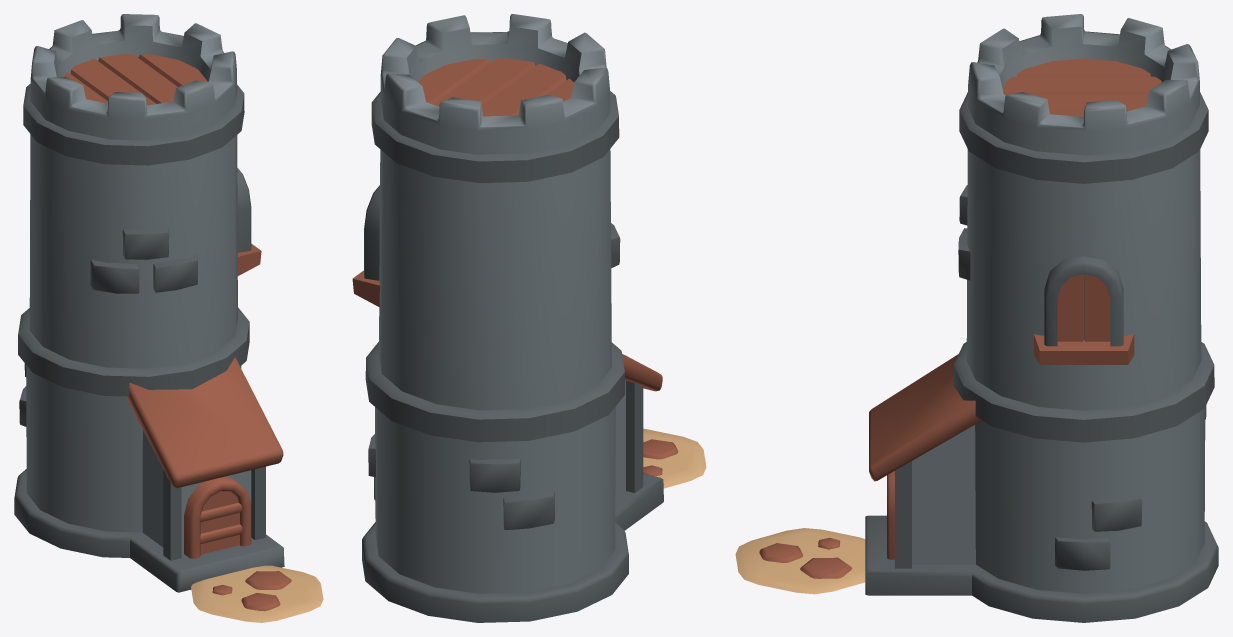
Rendered from watchtower.glb.
3 views of the same model, side by side, from view 1: azimuth 30°, elevation 25°; view 2: azimuth 150°, elevation 25°; view 3: azimuth 270°, elevation 25° (orthographic). The views are drawn at different scales.
Visible parts, largest first — view 1: watchtower; view 2: watchtower; view 3: watchtower.
Part boxes in pixels (x1,y1,x2,y2): watchtower: (14,14,323,622); watchtower: (352,14,706,622); watchtower: (735,14,1218,622).
Size of the model in its own units: 3.88 by 7.91 by 6.85.
